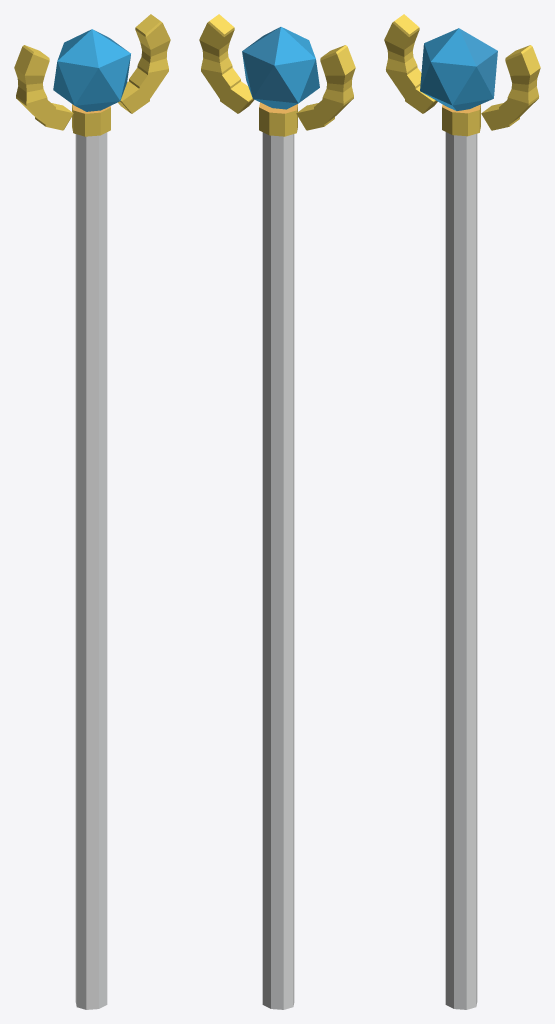
Rendered from Staff4.fbx.
3 views of the same model, side by side, from view 1: azimuth 30°, elevation 25°; view 2: azimuth 150°, elevation 25°; view 3: azimuth 330°, elevation 25° (orthographic).
Visible parts, largest first — view 1: Cylinder.008; view 2: Cylinder.008; view 3: Cylinder.008.
Boxes of the visible parts, box(x1,y1,x2,y2) form: Cylinder.008: box(14, 14, 170, 1009); Cylinder.008: box(199, 14, 355, 1009); Cylinder.008: box(384, 14, 540, 1009).
Bounding box in the file's own units: 0.2883 × 0.1187 × 1.84.
